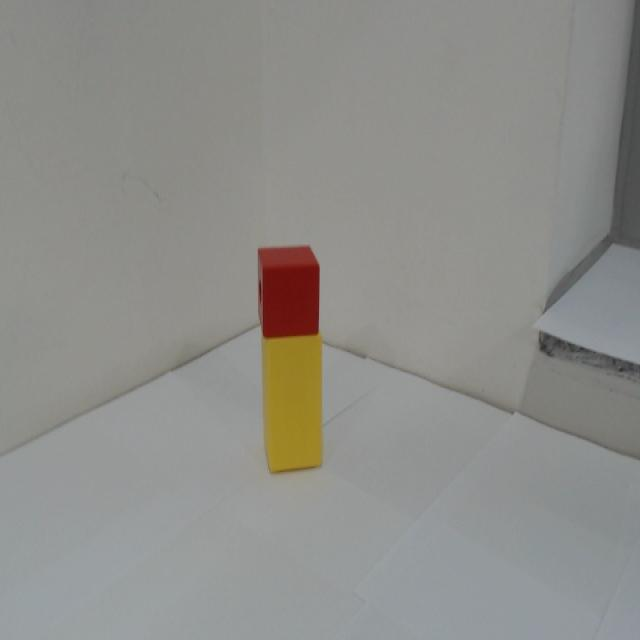cube: (246, 240, 324, 342)
